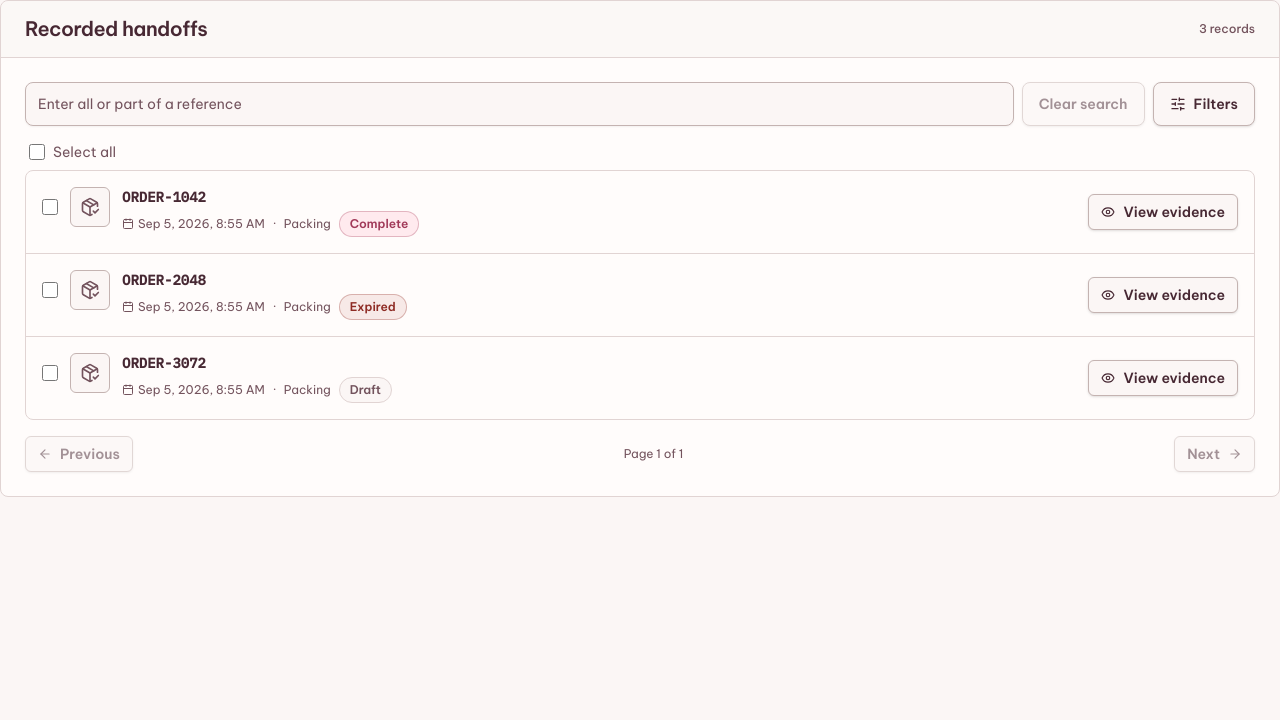
Scenario: RecorderHistory › bulk deletes selected records after one confirmation and reports the result
Expected: the text "ORDER-1042" is shown, [122,188,206,206]
Expected: the checkbox named "Select ORDER-3072" is shown, [42,365,58,381]
Click the checkbox named "Select ORDER-1042": x=50, y=207 [42,199,58,215]
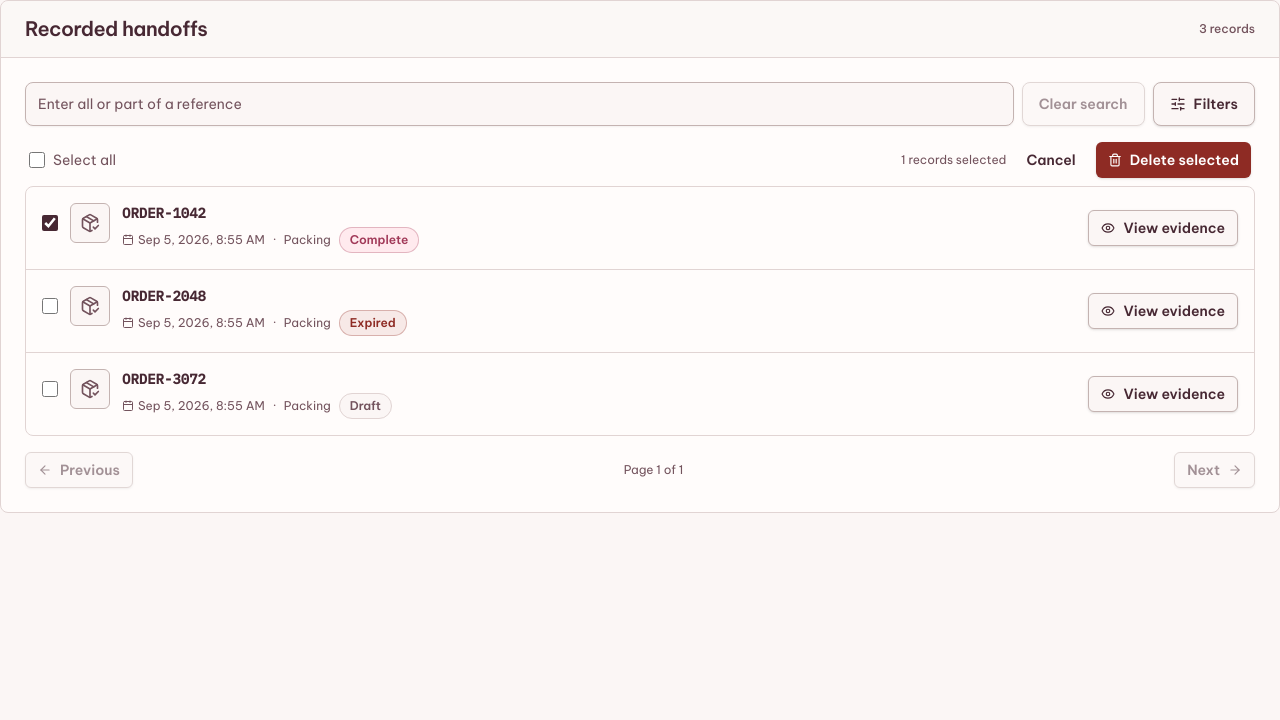
Click the checkbox named "Select ORDER-2048": x=50, y=306 [42,298,58,314]
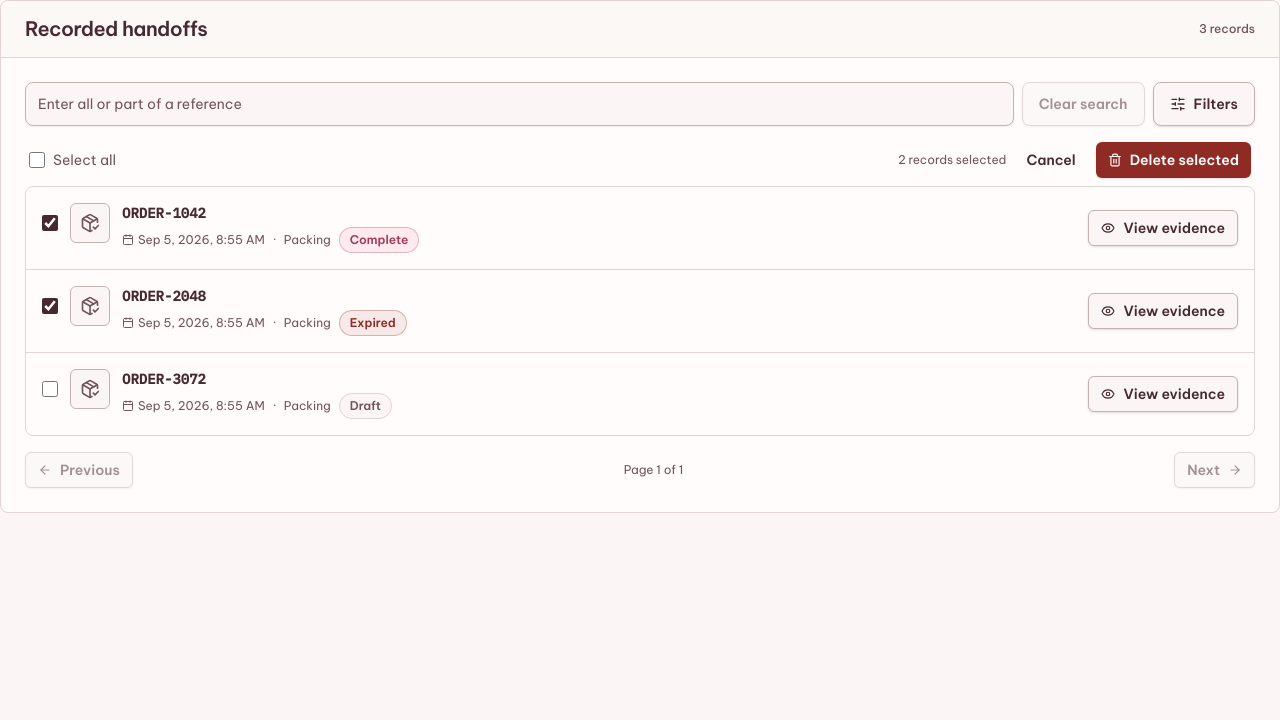
Click the checkbox named "Select ORDER-3072": x=50, y=389 [42,381,58,397]
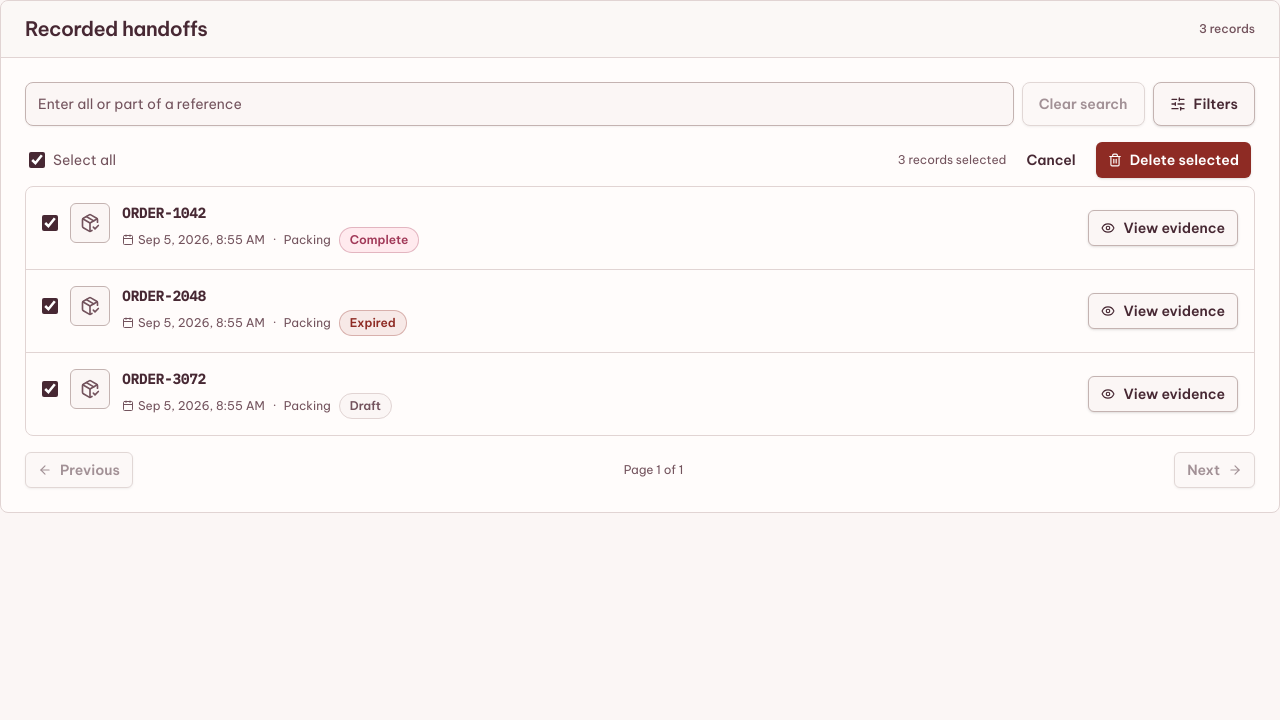
Expected: the text "3 records selected" is shown, [898,152,1006,168]
Click the button "Delete selected": x=1173, y=160 [1096,142,1251,178]
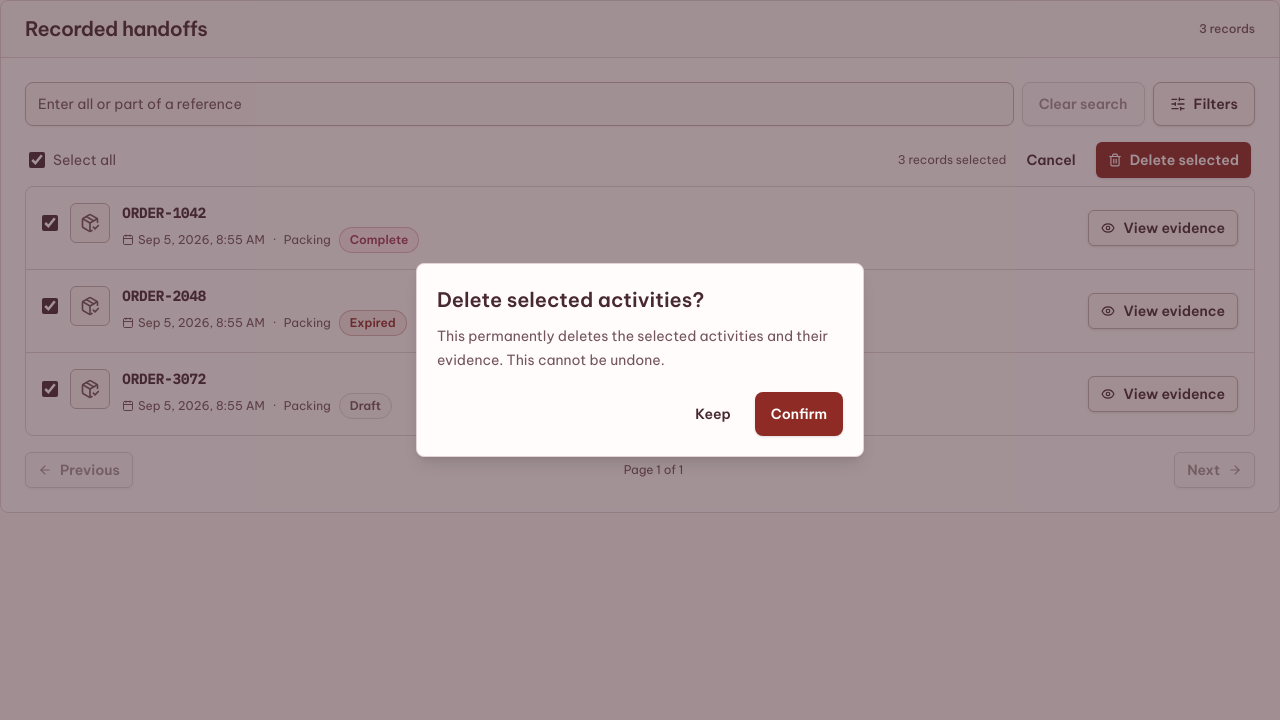
Click the button "Confirm": x=799, y=414 [755,392,843,436]
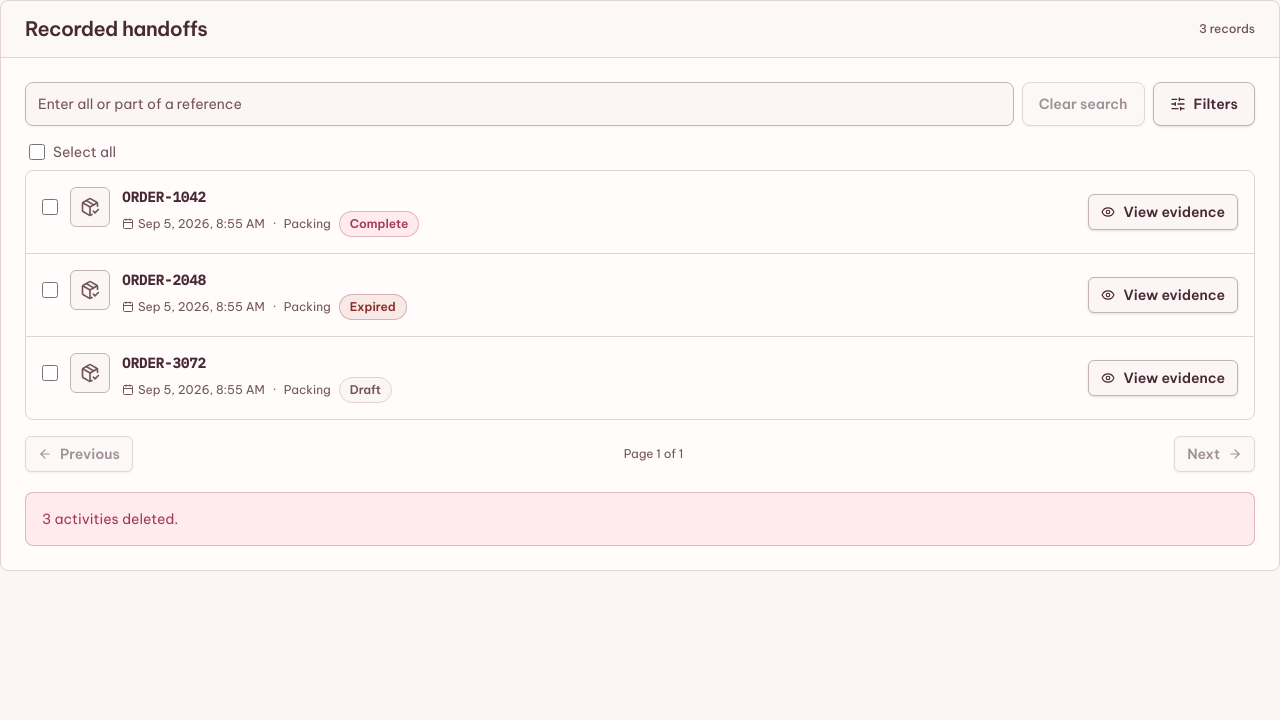
Expected: the checkbox named "Select ORDER-1042" is not checked, [42,199,58,215]
Expected: the text "3 activities deleted." is shown, [25,492,1255,546]
